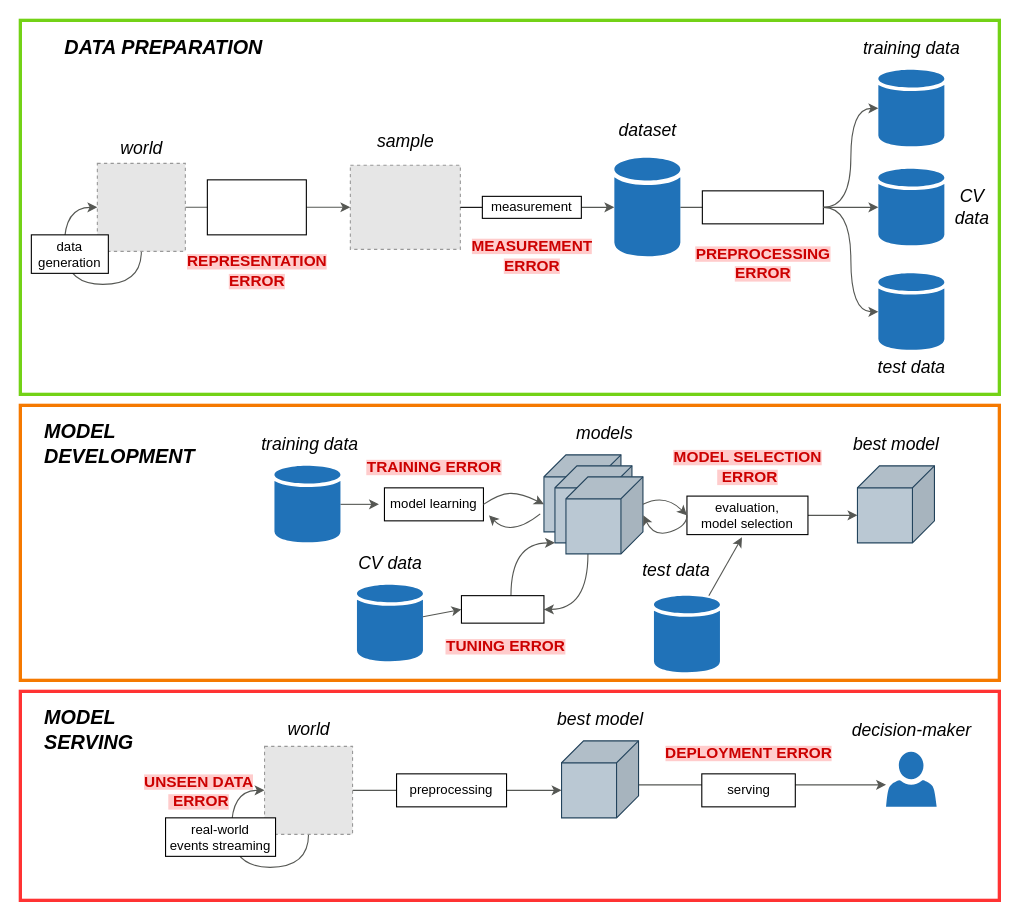
Image size: 1020x921. Some labels were removed from this diagram. Grey dashed boxes stand in for pictures. Here are the shapes that lost their labels. From the top down, the centre of each, then its label:
At (256,207): "population definition & sampling".
At (762,207): "preprocessing, train/cv/test split".
At (502,609): "tuning".
